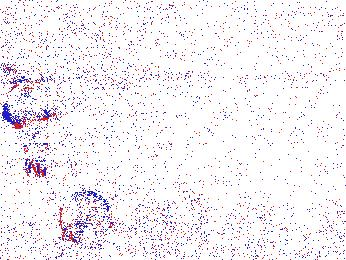flame jellyfish: (4, 81, 58, 176), (58, 191, 115, 249), (224, 195, 276, 246)
